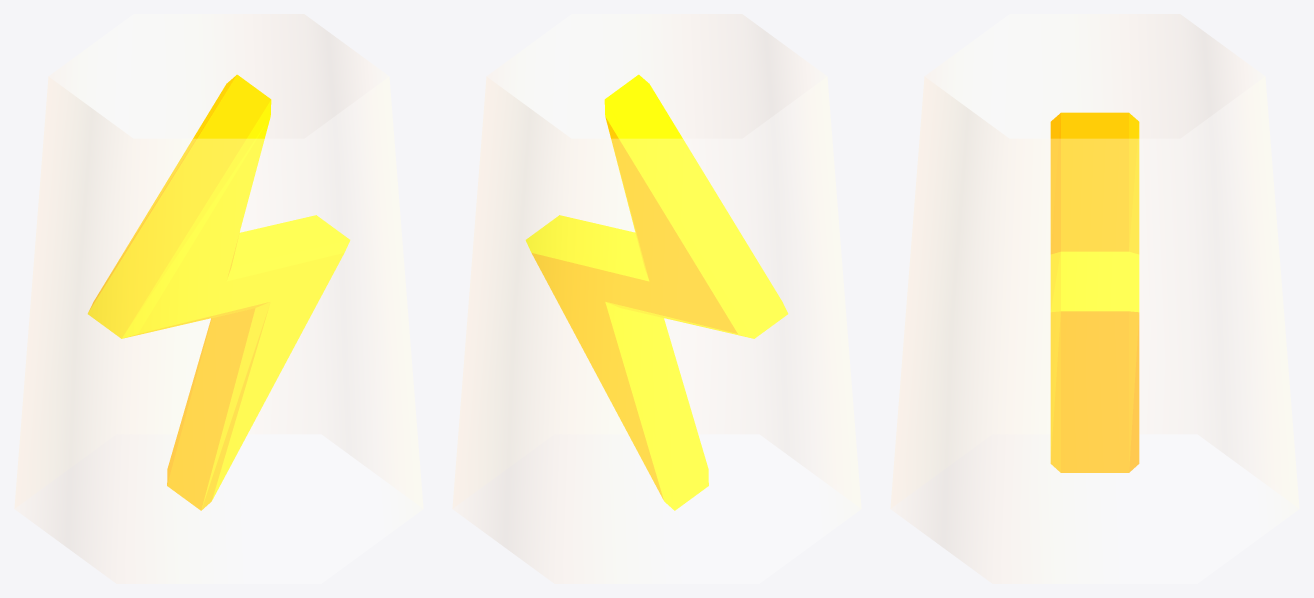
The model's file is Powerup_Speed.glb.
The picture shows the model from 3 angles, left to right: view 1: azimuth 30°, elevation 25°; view 2: azimuth 150°, elevation 25°; view 3: azimuth 270°, elevation 25°; orthographic projection.
Visible parts, largest first — view 1: Weapon_Upgrade_Speed; view 2: Weapon_Upgrade_Speed; view 3: Weapon_Upgrade_Speed.
Boxes of the visible parts, left/top/right/bottom form: Weapon_Upgrade_Speed: left=14, top=14, right=423, bottom=583; Weapon_Upgrade_Speed: left=452, top=14, right=861, bottom=583; Weapon_Upgrade_Speed: left=890, top=14, right=1299, bottom=583.
Bounding box in the file's own units: 1.04 × 1.4 × 1.2.
